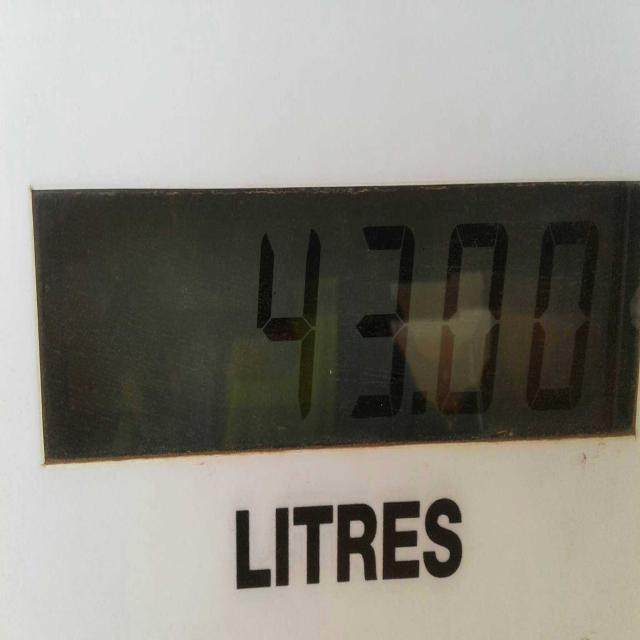.: (403, 374, 436, 443)
0: (428, 211, 515, 433), (517, 202, 604, 420)
3: (340, 211, 425, 433)
4: (240, 222, 330, 435)
